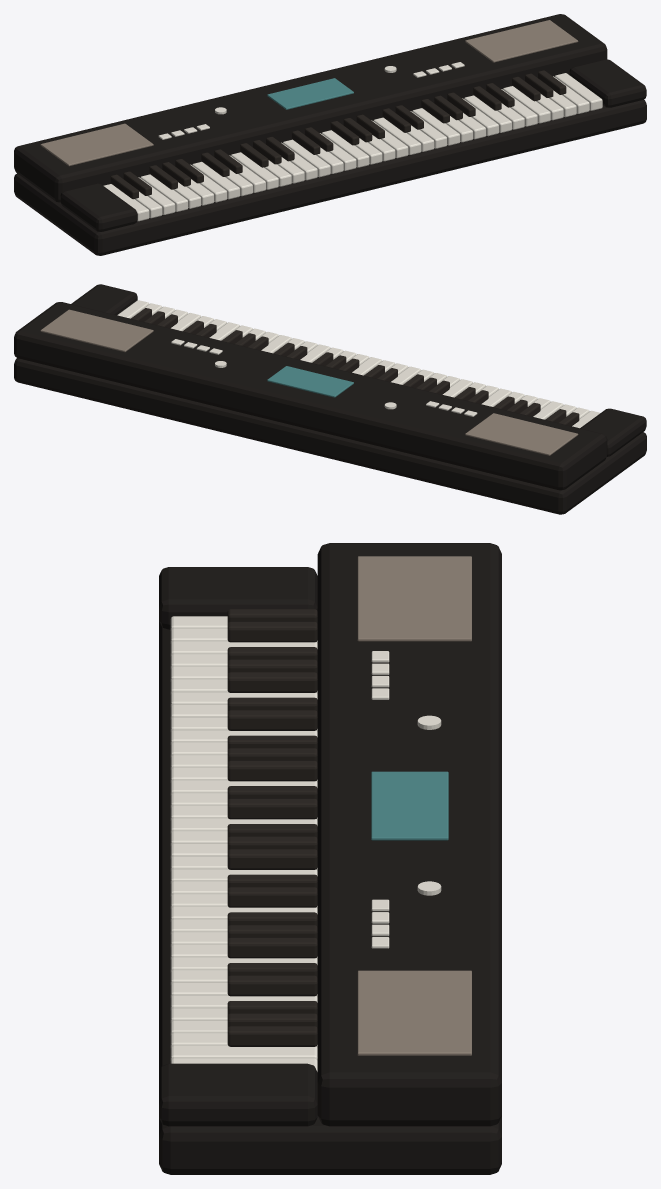
File: hh_cat_keyboard_piano.glb
3 views of the same model, one above another, from view 1: azimuth 30°, elevation 25°; view 2: azimuth 150°, elevation 25°; view 3: azimuth 270°, elevation 25° (orthographic). The views are drawn at different scales.
Parts seen in each view (by area): view 1: panel, body, speaker, speaker.001, cheek, cheek.001, display, key_white.035, key_white.017, key_white.021, key_white.031, key_white.014 (+27 smaller); view 2: panel, body, speaker.001, speaker, cheek, display, cheek.001; view 3: panel, body, cheek.001, speaker, speaker.001, cheek, display, key_black.001, key_black.009, key_black.019, key_black.011, key_black.021 (+31 smaller).
Part boxes in pixels (x1,y1,x2,y2): panel: (14, 14, 607, 202); body: (14, 99, 646, 255); speaker: (40, 123, 153, 166); speaker.001: (465, 20, 578, 62); cheek: (60, 183, 137, 231); cheek.001: (569, 59, 646, 107); display: (267, 78, 353, 109); key_white.035: (555, 73, 602, 110); key_white.017: (321, 130, 369, 167); key_white.021: (373, 117, 421, 154); key_white.031: (503, 86, 550, 123); key_white.014: (283, 139, 330, 177); panel: (14, 302, 607, 490); body: (14, 358, 646, 514); speaker.001: (40, 309, 153, 352); speaker: (465, 413, 578, 455); cheek: (580, 408, 646, 456); display: (267, 366, 353, 397); cheek.001: (71, 284, 137, 315); panel: (317, 543, 501, 1126); body: (159, 621, 501, 1174); cheek.001: (159, 1063, 317, 1126); speaker: (357, 556, 471, 641); speaker.001: (357, 970, 471, 1055); cheek: (159, 567, 317, 629); display: (371, 771, 448, 840); key_black.001: (227, 621, 317, 642); key_black.009: (227, 760, 317, 781); key_black.019: (227, 937, 317, 958); key_black.011: (227, 798, 317, 819); key_black.021: (227, 975, 317, 996).
Bounding box in the file's own units: 1.3 × 0.12 × 0.35.
